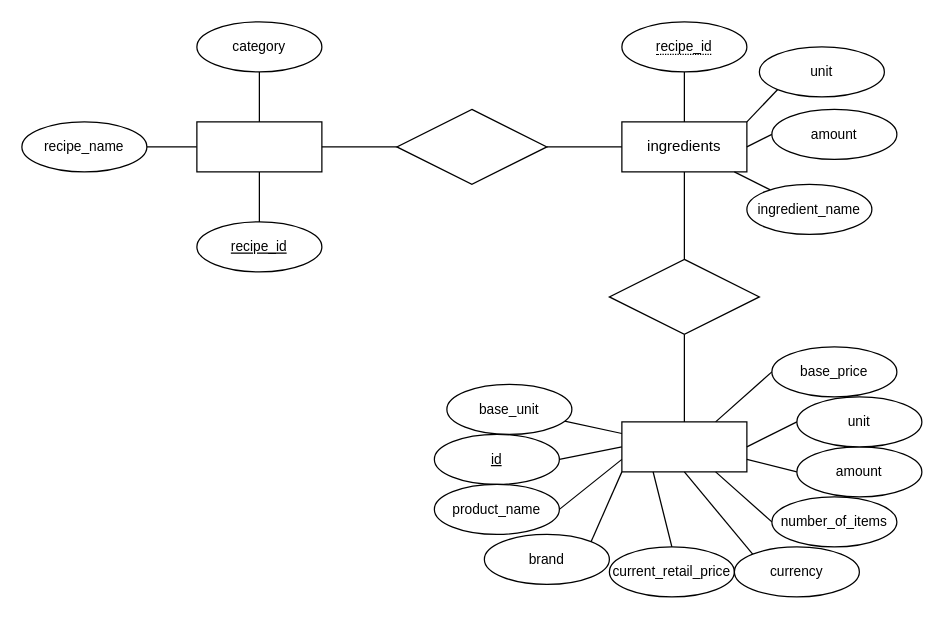
The diagram is 944 pixels wide and 619 high, and some of its shapes have lost their labels. The shapes that lost their labels are listed below. From the top down, each one's box as (x1, y1, x2, y2) in pixels, then its label:
(196, 121, 322, 172): recipes
(396, 108, 547, 184): contains
(608, 258, 759, 334): available as
(621, 421, 747, 472): products (supermarket)
